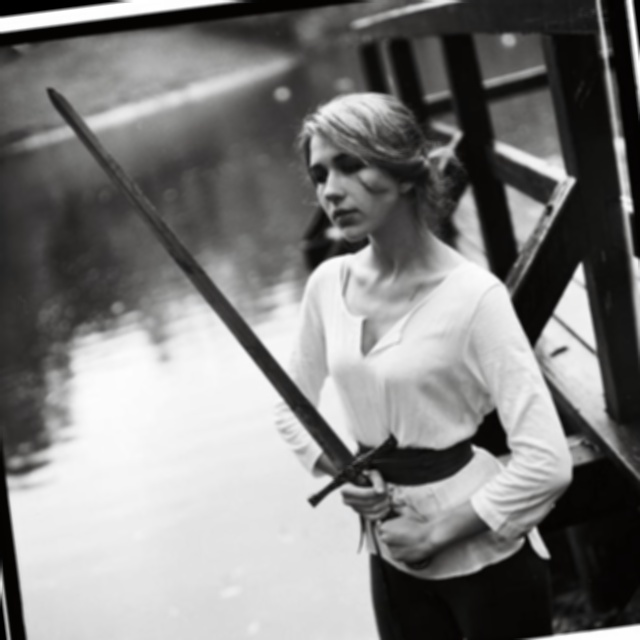Sharp-Object: (39, 36, 410, 595)
